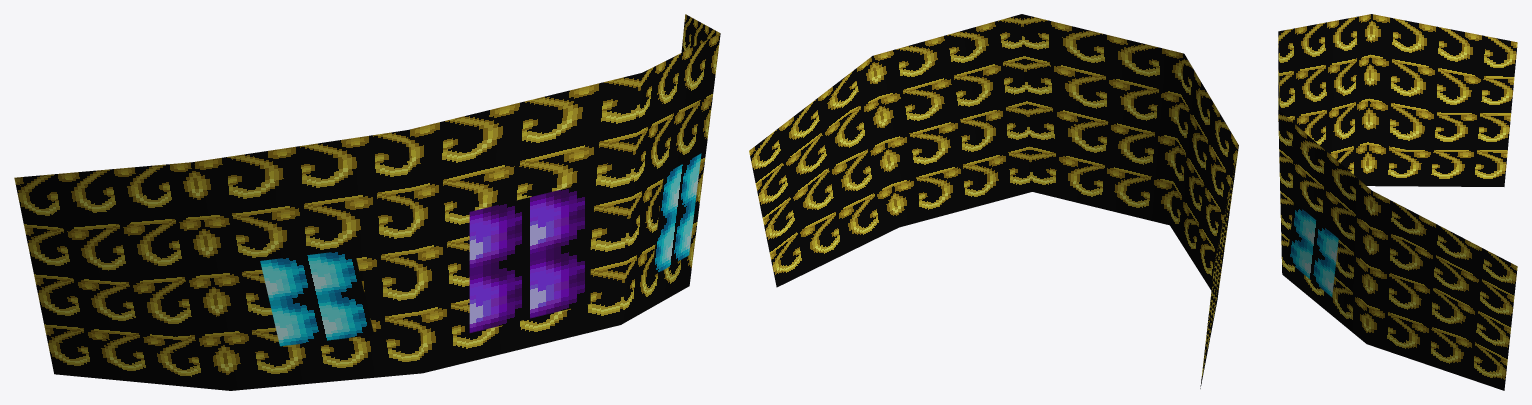
Rendered from code_ucc_u.gltf.
3 renders of one model, left to right at view 1: azimuth 30°, elevation 25°; view 2: azimuth 150°, elevation 25°; view 3: azimuth 270°, elevation 25°, orthographic. The views are drawn at different scales.
Parts seen in each view (by area): view 1: code_ucc_u; view 2: code_ucc_u; view 3: code_ucc_u.
Part boxes in pixels (<box>): code_ucc_u: <box>14,14,720,390</box>; code_ucc_u: <box>749,14,1238,388</box>; code_ucc_u: <box>1278,14,1517,390</box>.
Bounding box in the file's own units: 0.7739 × 0.3521 × 0.3655.
3 materials, 3 textured.
